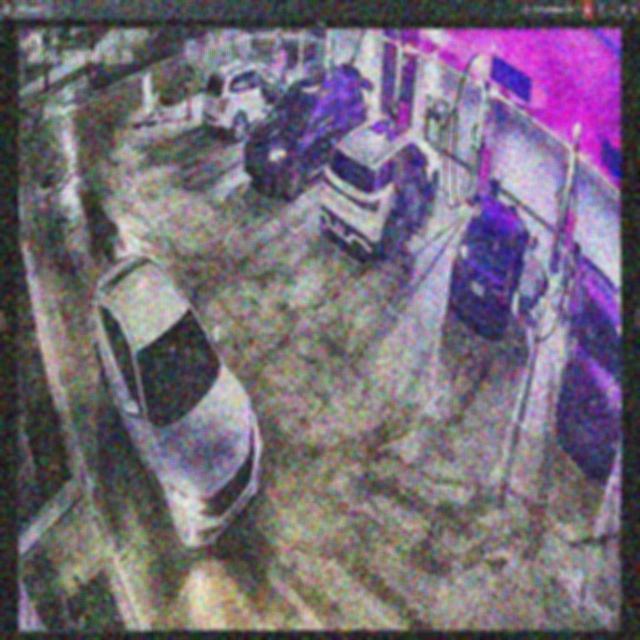Car: (88, 254, 263, 553), (320, 120, 440, 263), (247, 67, 369, 194), (450, 198, 530, 342), (202, 63, 298, 138)
